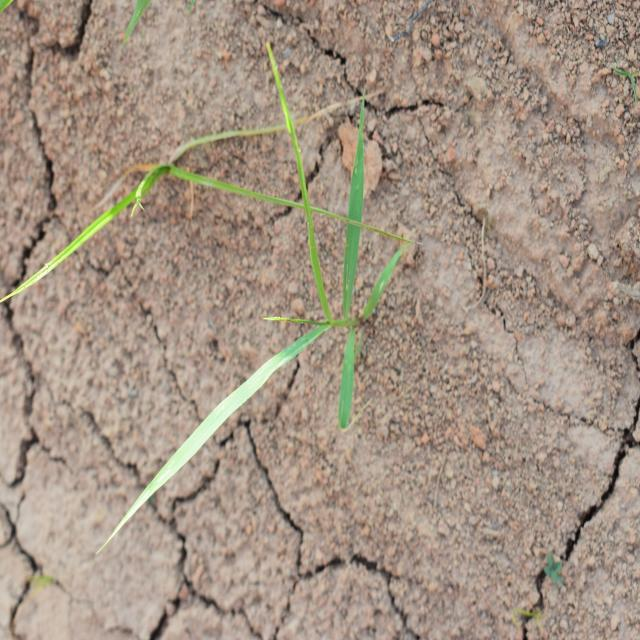green_foxtail: (136, 198, 382, 440)
